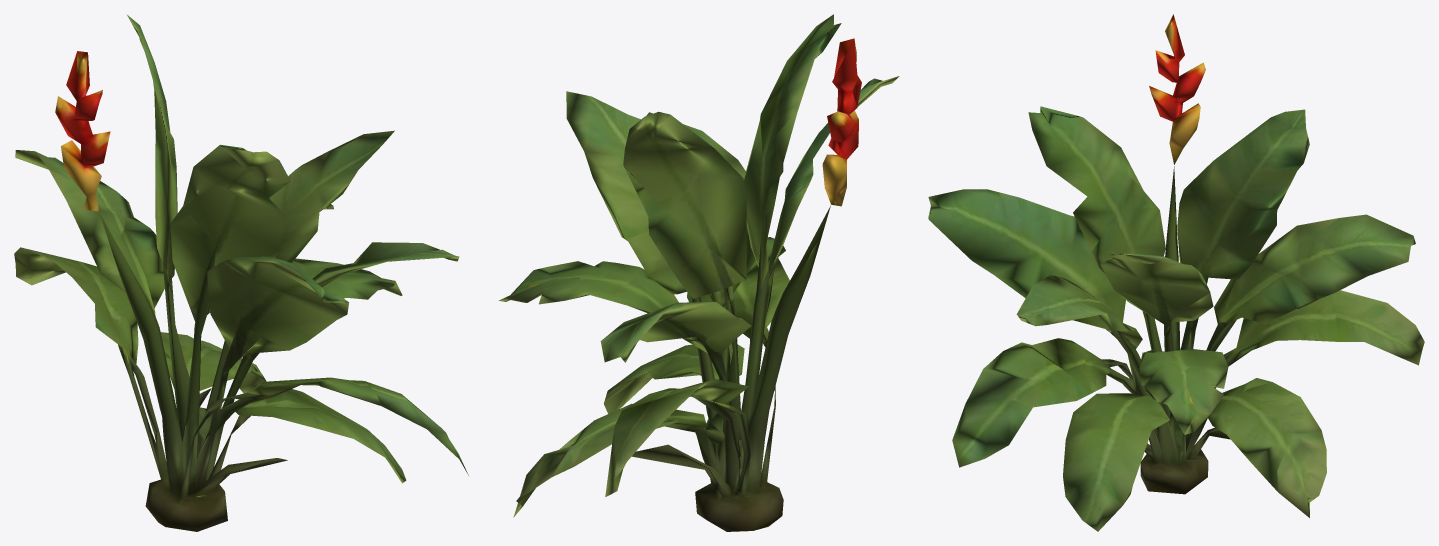
Rendered from heliconia.glb.
3 renders of one model, left to right at view 1: azimuth 30°, elevation 25°; view 2: azimuth 150°, elevation 25°; view 3: azimuth 270°, elevation 25°, orthographic. The views are drawn at different scales.
Visible parts, largest first — view 1: tripo_node_144a4701-07b3-487e-93ad-97f3573de9e5; view 2: tripo_node_144a4701-07b3-487e-93ad-97f3573de9e5; view 3: tripo_node_144a4701-07b3-487e-93ad-97f3573de9e5.
Part boxes in pixels (x1=…): tripo_node_144a4701-07b3-487e-93ad-97f3573de9e5: x1=14, y1=15, x2=468, y2=531; tripo_node_144a4701-07b3-487e-93ad-97f3573de9e5: x1=498, y1=14, x2=899, y2=531; tripo_node_144a4701-07b3-487e-93ad-97f3573de9e5: x1=928, y1=14, x2=1424, y2=531.
Bounding box in the file's own units: 0.659 × 0.9117 × 0.9749.
Materials: 1 (1 with a texture image).
